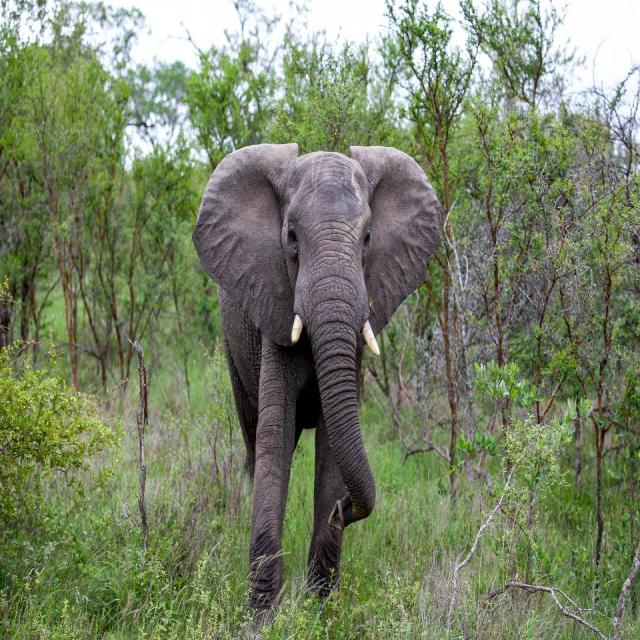Elephant: (192, 144, 438, 607)
